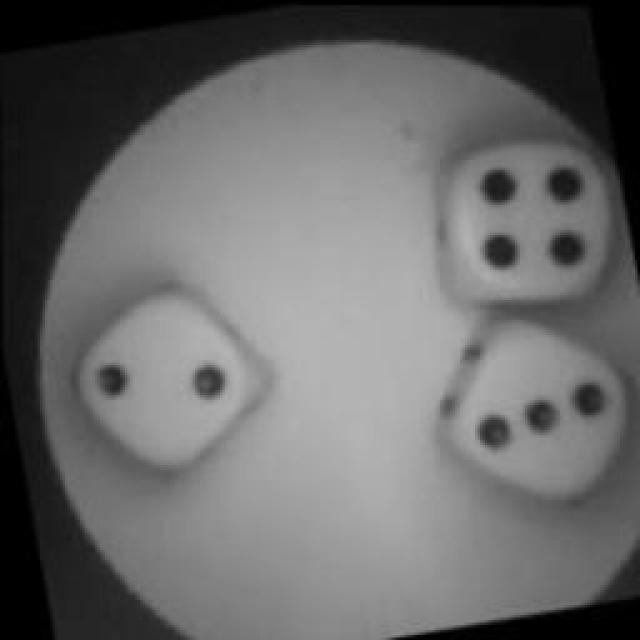dice_2: (55, 278, 280, 488)
dice_3: (435, 304, 640, 511)
dice_4: (412, 118, 626, 328)
